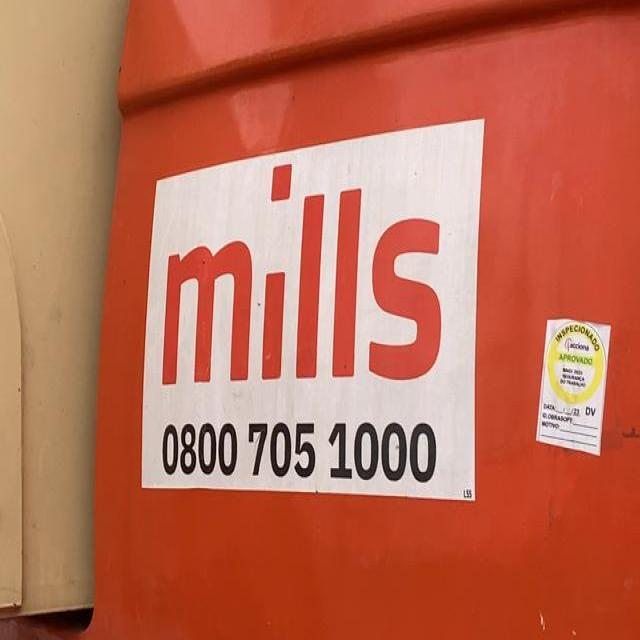Adesivos: (127, 93, 504, 514)
